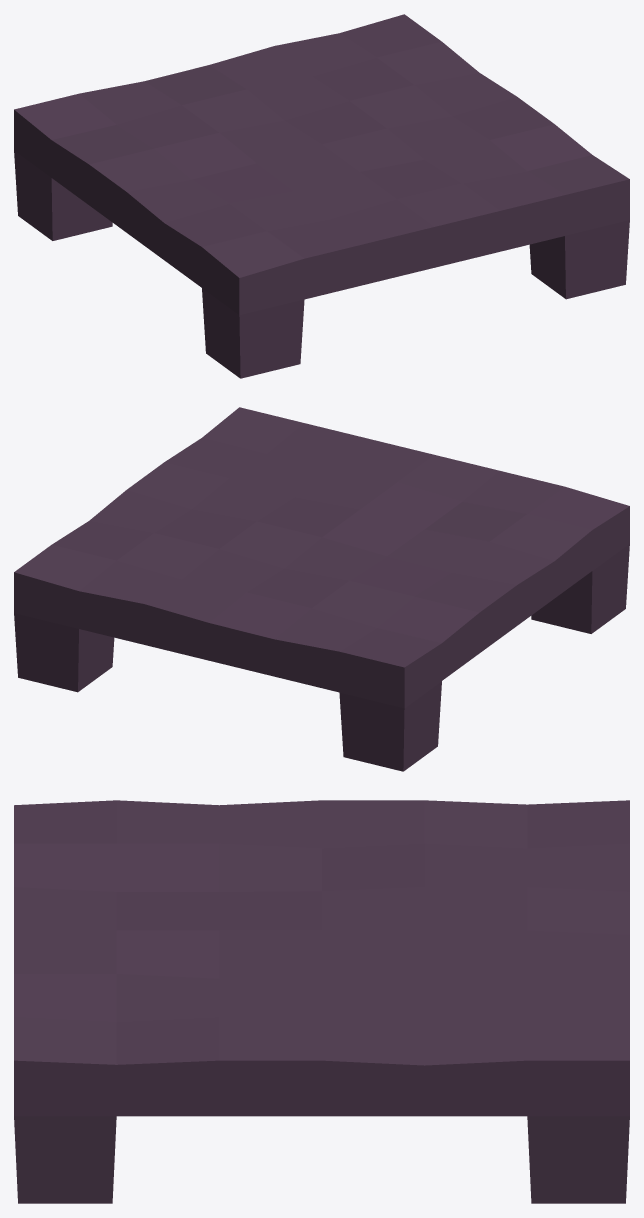
The model's file is 2x2 rugged platform.fbx.
3 views of the same model, one above another, from view 1: azimuth 30°, elevation 25°; view 2: azimuth 150°, elevation 25°; view 3: azimuth 270°, elevation 25° (orthographic). The views are drawn at different scales.
Parts seen in each view (by area): view 1: Cube; view 2: Cube; view 3: Cube.
Boxes of the visible parts, box(x1,y1,x2,y2) form: Cube: box(14, 14, 629, 378); Cube: box(14, 407, 629, 771); Cube: box(14, 800, 629, 1203).
Bounding box in the file's own units: 200 × 51.85 × 200.
